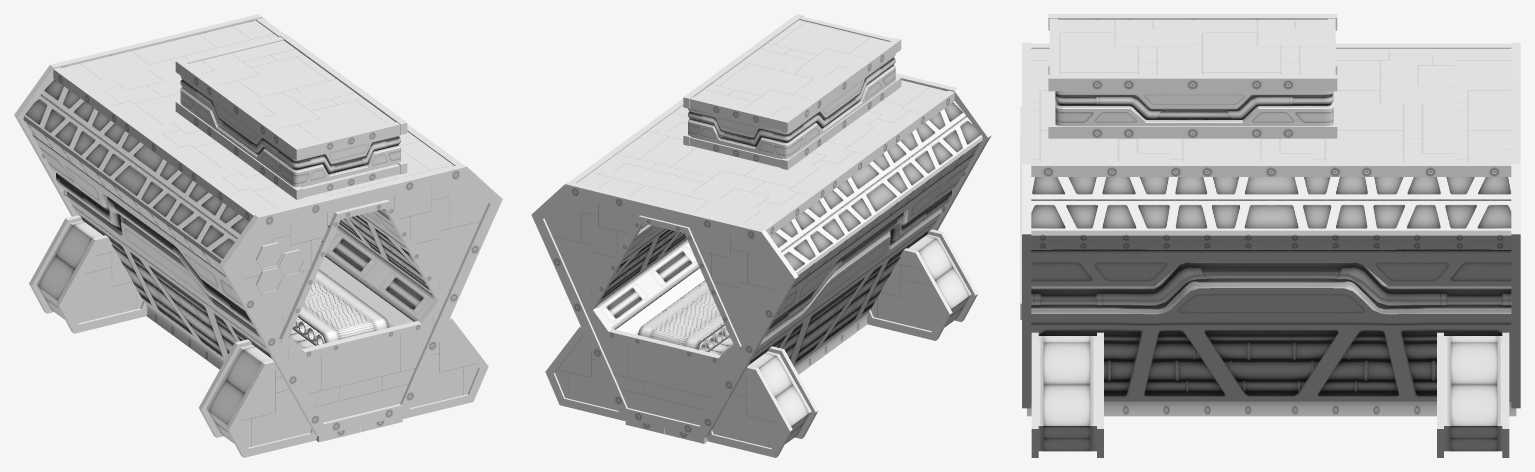
Rendered from DropOff_VF.FBX.
3 renders of one model, left to right at view 1: azimuth 30°, elevation 25°; view 2: azimuth 150°, elevation 25°; view 3: azimuth 270°, elevation 25°, orthographic. The views are drawn at different scales.
Visible parts, largest first — view 1: DropOff_Base; view 2: DropOff_Base; view 3: DropOff_Base.
Part boxes in pixels (box(x1,y1,x2,y2)): DropOff_Base: box(14, 14, 502, 457); DropOff_Base: box(531, 14, 991, 457); DropOff_Base: box(1020, 14, 1520, 457).
Size of the model in its own units: 158 by 156 by 205.
